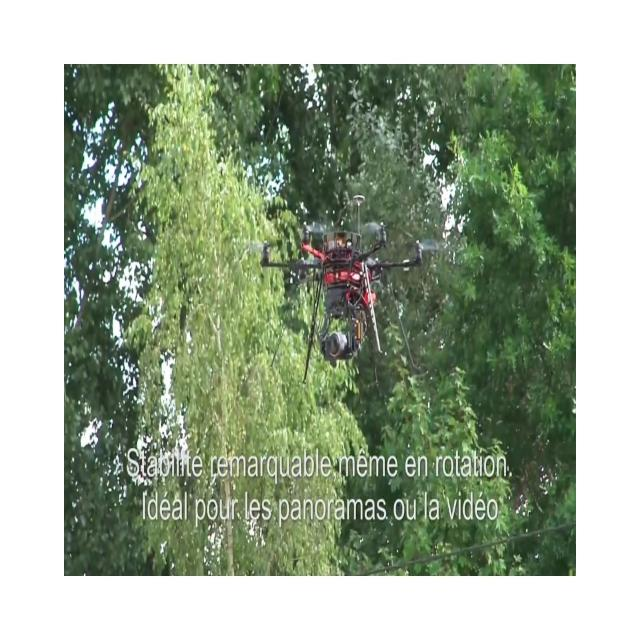drone: (247, 193, 440, 385)
